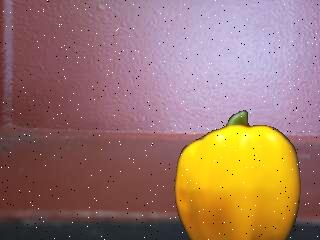Capsicum: (174, 111, 301, 240)
